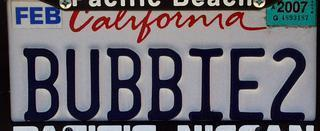placa de veiculo: (4, 0, 320, 130)
